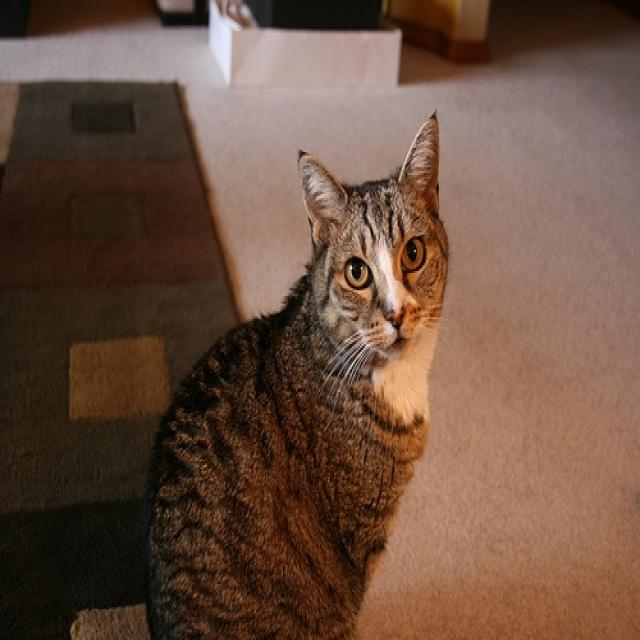cat: (151, 115, 448, 632)
